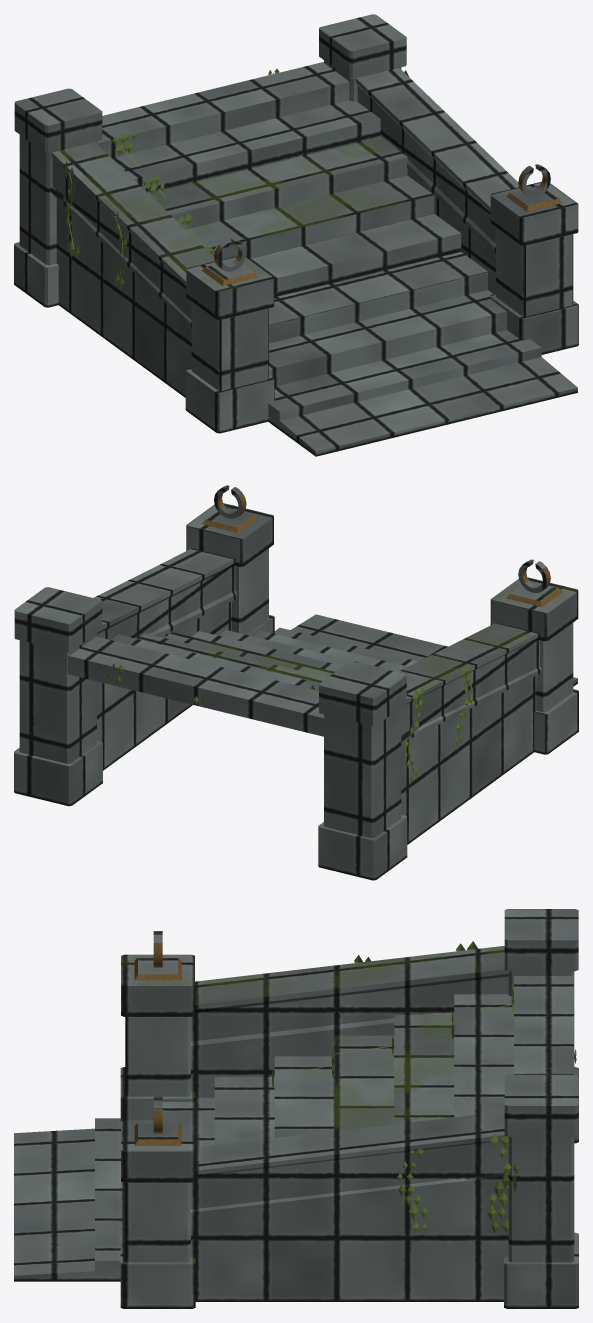
The model's file is Stairs.fbx.
3 renders of one model, top to bottom at view 1: azimuth 30°, elevation 25°; view 2: azimuth 150°, elevation 25°; view 3: azimuth 270°, elevation 25°, orthographic. The views are drawn at different scales.
Parts seen in each view (by area): view 1: Stairs.003; view 2: Stairs.003; view 3: Stairs.003.
Boxes of the visible parts, bbox=[...] form: Stairs.003: bbox=[14, 14, 578, 456]; Stairs.003: bbox=[14, 485, 578, 880]; Stairs.003: bbox=[14, 909, 578, 1308].
Bounding box in the file's own units: 6.31 × 2.99 × 7.55.
4 materials, 3 textured.
